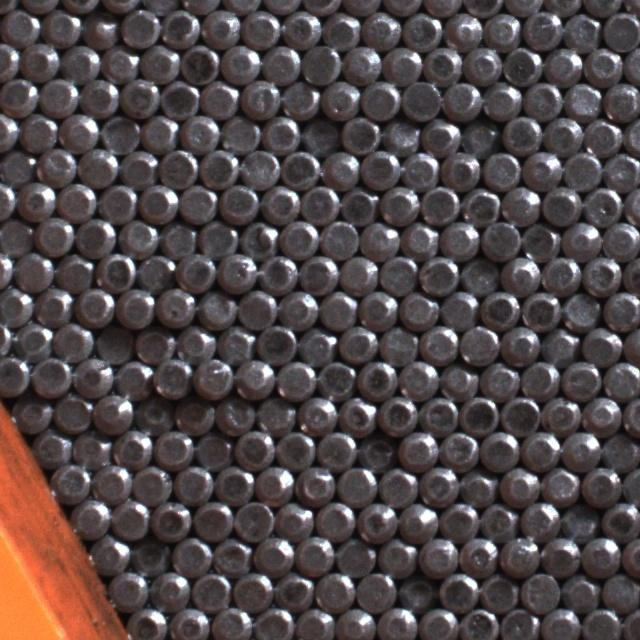tool: (357, 356, 398, 398), (481, 217, 522, 258), (274, 357, 315, 398), (30, 354, 71, 395), (457, 532, 498, 573), (93, 391, 134, 432), (218, 180, 258, 222), (294, 532, 334, 574), (519, 427, 559, 469), (252, 531, 292, 573), (233, 497, 273, 538), (109, 497, 149, 538), (357, 499, 398, 539), (192, 355, 232, 396), (150, 498, 190, 539), (400, 78, 440, 119), (256, 322, 297, 362), (498, 534, 538, 575), (72, 355, 113, 395), (398, 500, 439, 540), (192, 498, 232, 539), (258, 251, 298, 292), (376, 394, 416, 435), (418, 393, 458, 434), (499, 392, 540, 432), (89, 532, 129, 573), (137, 181, 177, 221), (540, 252, 580, 292), (301, 43, 341, 83), (378, 253, 418, 293), (53, 320, 93, 360), (131, 462, 171, 502), (355, 570, 395, 610), (234, 356, 274, 396), (211, 535, 251, 575), (419, 182, 459, 222), (255, 394, 295, 434), (418, 323, 458, 363), (213, 460, 253, 500), (541, 183, 581, 223), (378, 182, 418, 222), (278, 287, 318, 327), (220, 43, 260, 83), (74, 284, 114, 324), (107, 568, 147, 608), (34, 214, 74, 254), (172, 461, 212, 501), (79, 74, 119, 114), (158, 218, 198, 258), (313, 570, 353, 610), (171, 534, 211, 574), (402, 9, 442, 49), (539, 535, 579, 575), (375, 535, 415, 575), (519, 571, 559, 611), (377, 464, 417, 504), (236, 286, 276, 326), (478, 430, 518, 470), (74, 216, 114, 256), (336, 463, 376, 503), (580, 463, 620, 503), (498, 465, 538, 505), (522, 148, 562, 188), (502, 112, 542, 152), (92, 460, 132, 500), (478, 287, 518, 327), (299, 182, 339, 222), (600, 570, 640, 610), (281, 147, 321, 187), (560, 428, 600, 468), (96, 250, 136, 290), (18, 110, 58, 150), (296, 393, 336, 433), (150, 568, 190, 608), (276, 427, 316, 467), (274, 498, 314, 538), (118, 147, 158, 187), (274, 569, 314, 609), (316, 428, 356, 468), (12, 318, 52, 358), (232, 569, 272, 609), (520, 289, 560, 329), (160, 78, 200, 118), (180, 40, 220, 80), (94, 324, 134, 364), (130, 536, 170, 576), (441, 78, 480, 119), (240, 78, 279, 119), (519, 357, 558, 398), (113, 355, 152, 396), (399, 358, 438, 399), (500, 253, 539, 294), (70, 497, 109, 538), (317, 357, 356, 398), (460, 323, 499, 363), (314, 499, 354, 538), (439, 219, 478, 259), (56, 180, 96, 219), (178, 182, 217, 222), (279, 217, 318, 257), (382, 44, 422, 83), (159, 146, 198, 186), (338, 253, 377, 293), (154, 426, 193, 466), (478, 359, 518, 398), (481, 149, 521, 188), (240, 7, 280, 46), (563, 148, 602, 188), (582, 393, 621, 433), (561, 358, 600, 398), (51, 459, 90, 499), (97, 181, 136, 221), (33, 284, 72, 324), (52, 391, 91, 431), (200, 147, 239, 187), (139, 43, 179, 82), (540, 394, 579, 434), (461, 185, 500, 225), (361, 9, 401, 48), (359, 219, 398, 259), (481, 78, 520, 118), (523, 79, 563, 118), (417, 534, 456, 574), (240, 147, 279, 187), (500, 324, 539, 364), (581, 254, 620, 294), (200, 6, 239, 46), (58, 111, 98, 150), (153, 356, 192, 396), (441, 148, 480, 188), (540, 464, 579, 504), (177, 250, 216, 290), (502, 45, 542, 84), (438, 570, 477, 610), (255, 462, 294, 502), (280, 78, 319, 118), (298, 253, 337, 293), (398, 220, 438, 259), (320, 78, 359, 118), (422, 44, 462, 83), (438, 288, 478, 327), (601, 220, 640, 260), (159, 7, 199, 46), (337, 392, 376, 432), (116, 286, 155, 326), (198, 219, 237, 259), (136, 250, 176, 289), (120, 76, 159, 116), (13, 249, 52, 289), (321, 10, 361, 49), (601, 498, 640, 538), (119, 7, 159, 46), (219, 115, 259, 154), (319, 218, 358, 258), (580, 326, 620, 365), (217, 250, 256, 290), (54, 251, 94, 290), (460, 116, 499, 156), (99, 112, 138, 152), (518, 499, 558, 538), (601, 430, 640, 470), (560, 291, 600, 330), (190, 570, 229, 610), (560, 571, 599, 611), (294, 463, 334, 502), (542, 114, 581, 154), (420, 116, 460, 155), (340, 182, 379, 222), (237, 216, 277, 255), (173, 395, 213, 434), (419, 253, 457, 294), (39, 74, 77, 115), (16, 179, 54, 220), (580, 534, 618, 575), (261, 43, 300, 82), (338, 323, 377, 362), (360, 79, 399, 118), (463, 44, 502, 83), (215, 323, 254, 362), (582, 184, 621, 223), (583, 45, 622, 84), (60, 42, 99, 81), (100, 43, 139, 82), (342, 43, 381, 82), (361, 148, 400, 187), (41, 6, 80, 45), (156, 285, 195, 324), (175, 323, 214, 362), (335, 536, 374, 575), (235, 427, 274, 466), (438, 499, 477, 538), (440, 428, 479, 467), (298, 325, 337, 364), (281, 8, 320, 47), (0, 5, 39, 44), (523, 9, 562, 48), (459, 256, 498, 295), (339, 114, 378, 153), (501, 183, 540, 222), (478, 499, 517, 538), (358, 288, 397, 327), (378, 323, 417, 362), (215, 395, 254, 434), (180, 111, 219, 150), (321, 148, 360, 187), (381, 114, 420, 153), (139, 112, 178, 151), (479, 572, 518, 611), (418, 464, 457, 503), (398, 429, 437, 468), (522, 221, 561, 260), (20, 40, 59, 79), (197, 288, 236, 327), (70, 427, 109, 466), (134, 392, 173, 431), (560, 501, 599, 540), (78, 146, 118, 184), (260, 182, 298, 222), (200, 78, 238, 118), (602, 360, 640, 400), (0, 75, 38, 115), (562, 218, 600, 258), (602, 289, 640, 329), (111, 426, 151, 464), (356, 432, 396, 470), (459, 392, 499, 430), (211, 603, 252, 640), (563, 79, 601, 118), (36, 146, 75, 184), (543, 45, 581, 84), (136, 325, 175, 363), (439, 360, 478, 398), (583, 116, 622, 154), (562, 11, 600, 50), (401, 150, 439, 189), (317, 290, 356, 328), (483, 9, 521, 48), (260, 114, 299, 152), (445, 10, 484, 48), (399, 290, 438, 328), (300, 115, 338, 154), (458, 467, 497, 505), (194, 428, 232, 467), (118, 217, 156, 256), (396, 572, 434, 611), (603, 81, 640, 121), (603, 9, 640, 49), (11, 395, 51, 432), (253, 604, 294, 640), (540, 325, 578, 363), (603, 150, 640, 189), (336, 604, 376, 640), (296, 604, 336, 640), (168, 605, 209, 640), (33, 427, 70, 465), (418, 604, 457, 640), (540, 605, 580, 640), (500, 605, 540, 640), (126, 605, 166, 640), (458, 605, 498, 640), (81, 11, 118, 48), (0, 146, 35, 185), (376, 605, 415, 640), (581, 606, 621, 640), (0, 216, 33, 255), (0, 284, 32, 324), (0, 352, 29, 393), (620, 534, 640, 575), (621, 324, 640, 364), (0, 38, 19, 78), (621, 463, 640, 502), (622, 395, 640, 436), (0, 108, 18, 148), (623, 252, 640, 294), (622, 116, 640, 154), (623, 44, 640, 84), (623, 184, 640, 222), (502, 0, 542, 16), (0, 178, 16, 218), (582, 0, 622, 15), (543, 0, 582, 15)
